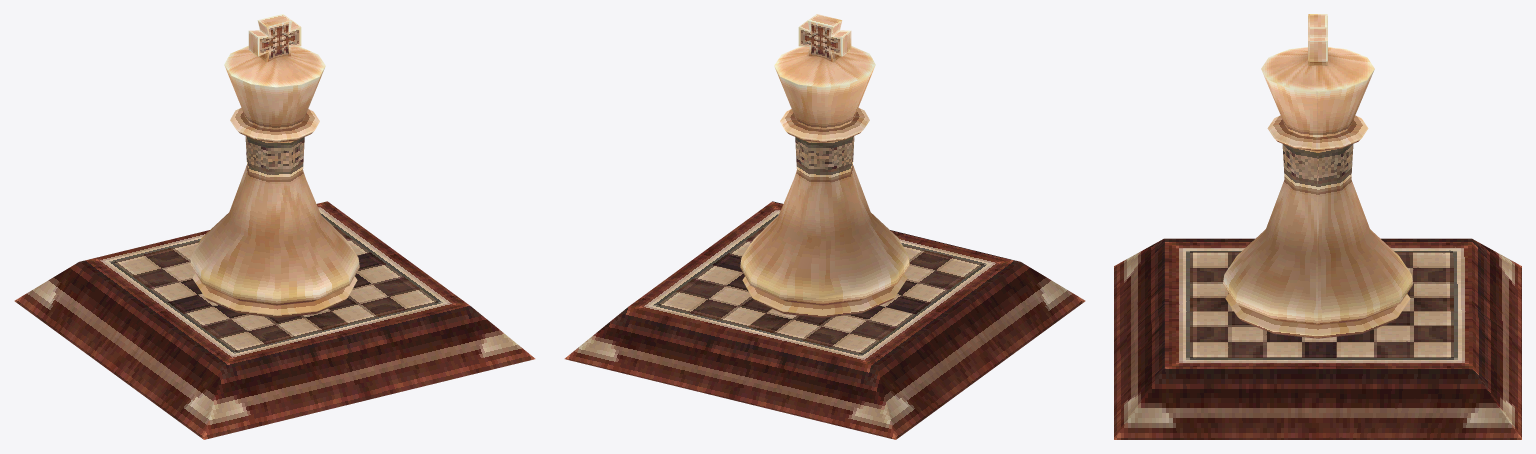
The model's file is ps2_save-icons_superlite2000vol26mezasechesschampion.glb.
3 views of the same model, side by side, from view 1: azimuth 30°, elevation 25°; view 2: azimuth 150°, elevation 25°; view 3: azimuth 270°, elevation 25° (orthographic). The views are drawn at different scales.
Parts seen in each view (by area): view 1: C_ICON.ICO; view 2: C_ICON.ICO; view 3: C_ICON.ICO.
Boxes of the visible parts, x1=… form: C_ICON.ICO: x1=14, y1=14, x2=535, y2=439; C_ICON.ICO: x1=564, y1=14, x2=1085, y2=439; C_ICON.ICO: x1=1114, y1=14, x2=1521, y2=439.
Size of the model in its own units: 3.29 by 2.94 by 3.26.
1 material, 1 textured.
